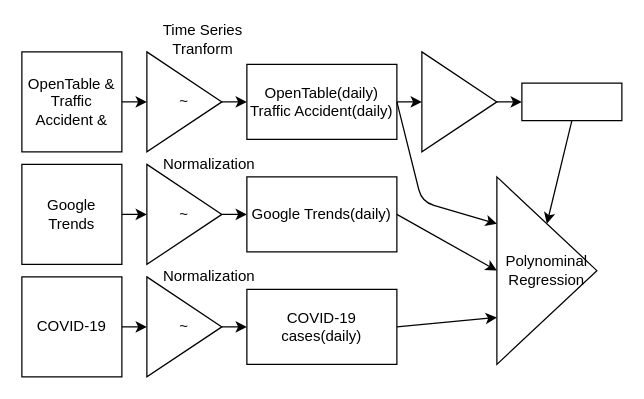
This 644x399 diagram has some shape labels left out. Here are the shapes that lost their labels. From the top down, the box of each, then its label:
(421, 51, 497, 152): Granger Casuality
(521, 82, 622, 121): p-value n - lag
